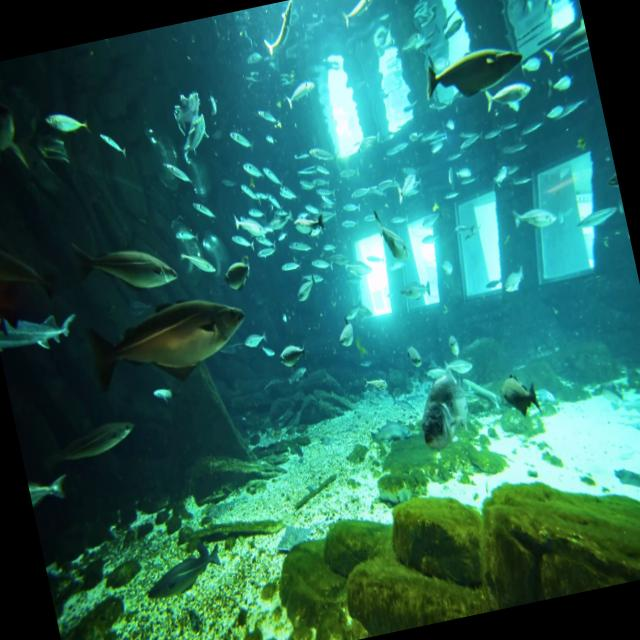fish: (80, 283, 264, 399), (60, 208, 183, 310), (123, 518, 235, 610), (0, 274, 90, 370), (414, 31, 530, 104), (46, 401, 144, 473), (503, 184, 570, 244), (477, 68, 540, 130), (493, 368, 554, 431), (22, 446, 74, 514), (370, 204, 422, 272), (36, 100, 96, 152), (280, 66, 325, 120), (492, 250, 535, 306), (224, 190, 269, 242), (269, 333, 317, 374)
